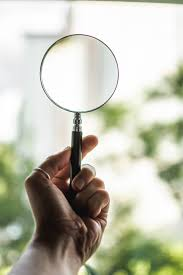magnifying-glass: (36, 30, 126, 127)
